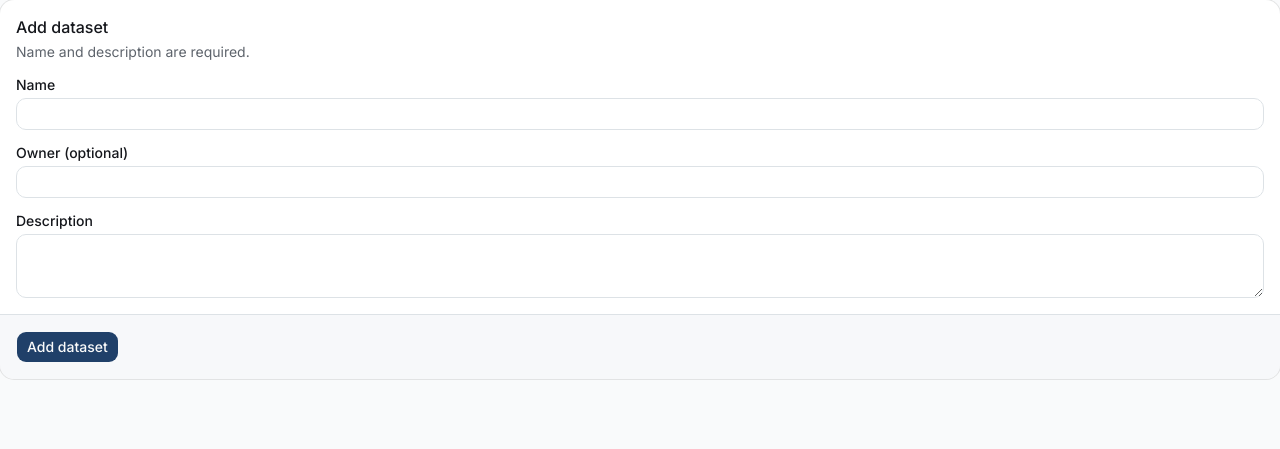
it: AddDatasetForm › shows the required-field errors and focuses Name when submitted empty
Click the button "Add dataset" at (67, 347), box [16,331,119,363]
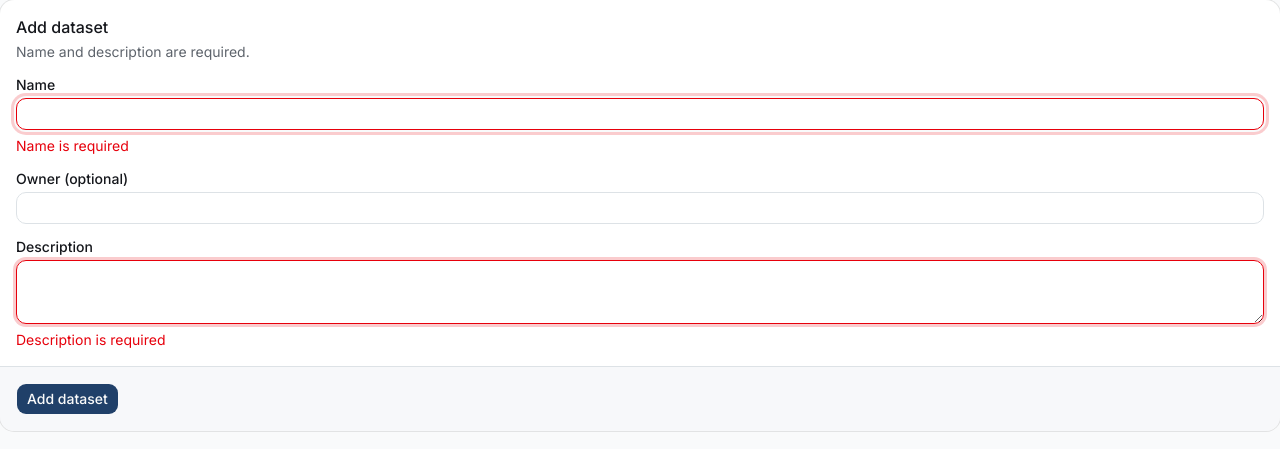
expect the text "Name is required" is shown: met, box [16,137,129,154]
expect the text "Description is required" is shown: met, box [16,331,166,348]
